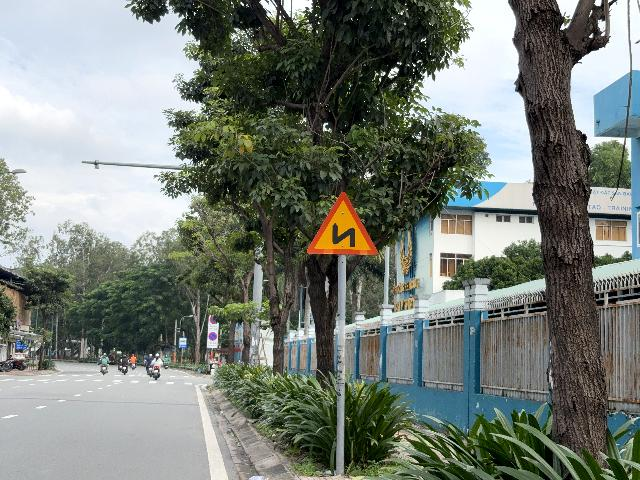nhieu-cho-ngoat-nguy-hiem-lien-tiep: (306, 190, 378, 255)
